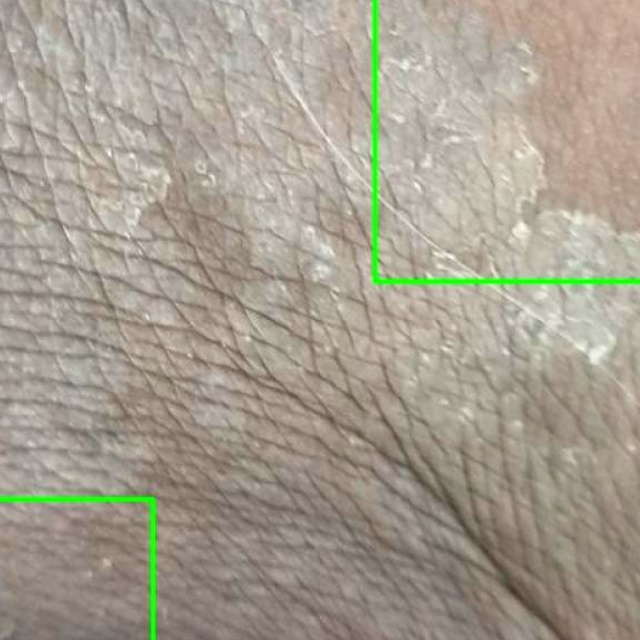Eczema: (374, 0, 639, 281), (0, 499, 153, 639)
